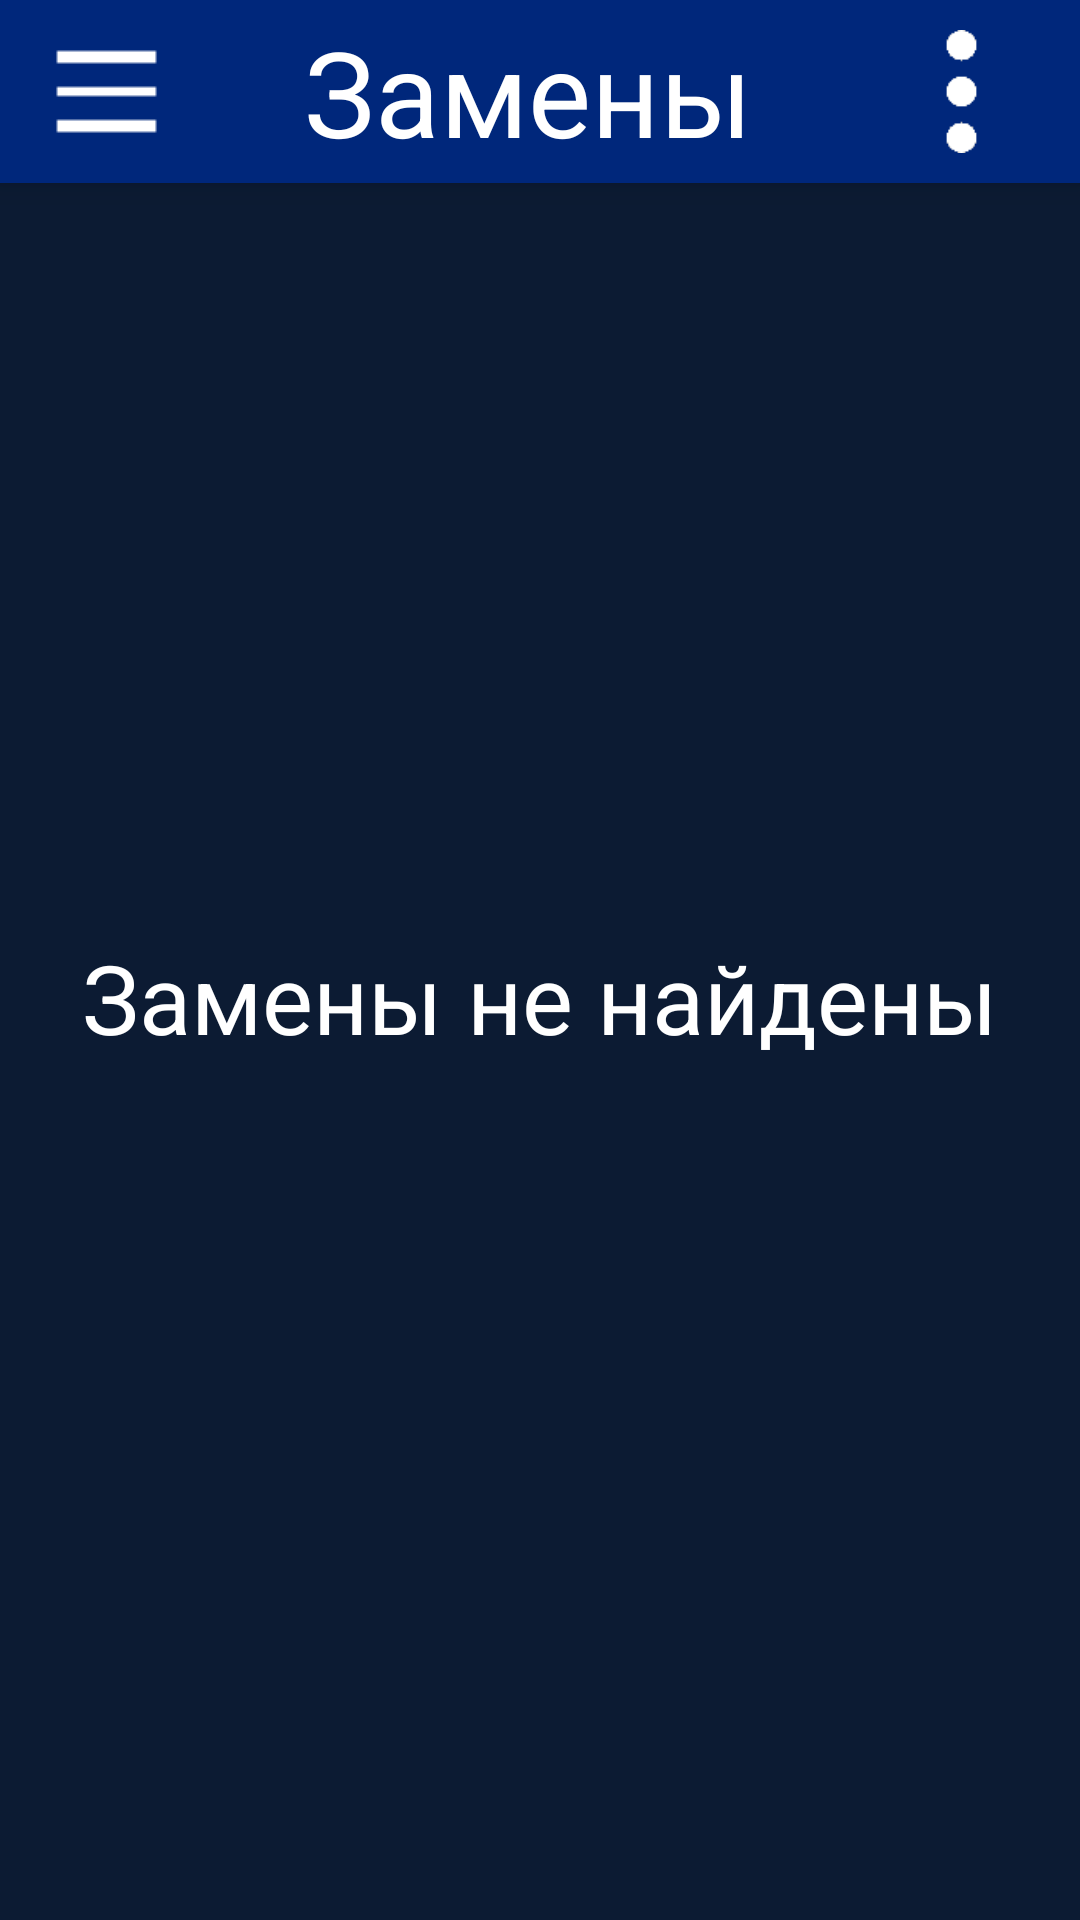

Icon click points for this 1080x1920 phone screenshot, format point (x, y):
leftmenuicon: point (106, 91)
